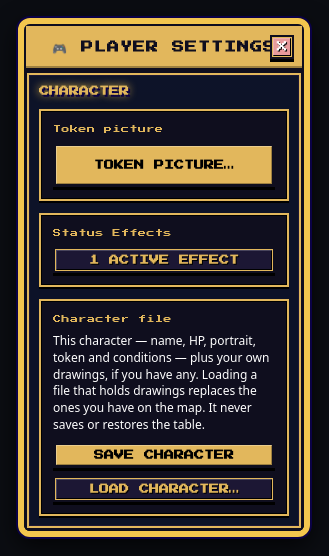
it: PlayerSettingsMenu — toggling a condition by its label › removes an already-active condition on a single click of the text
The image size is (329, 556).
Click the button "1 Active Effect": (164, 260) x1=53 y1=247 x2=275 y2=273
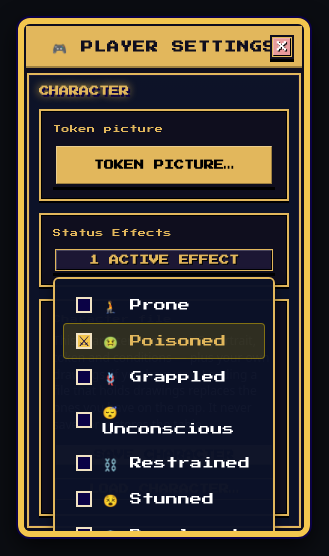
Click the text "🤢 Poisoned": (164, 341) x1=103 y1=332 x2=226 y2=350
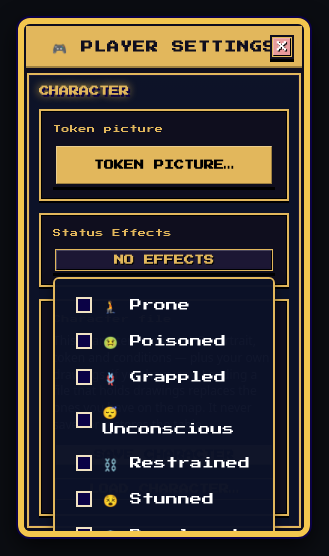
Expected: the checkbox labelled "🤢 Poisoned" is not checked, x1=76 y1=333 x2=92 y2=349
